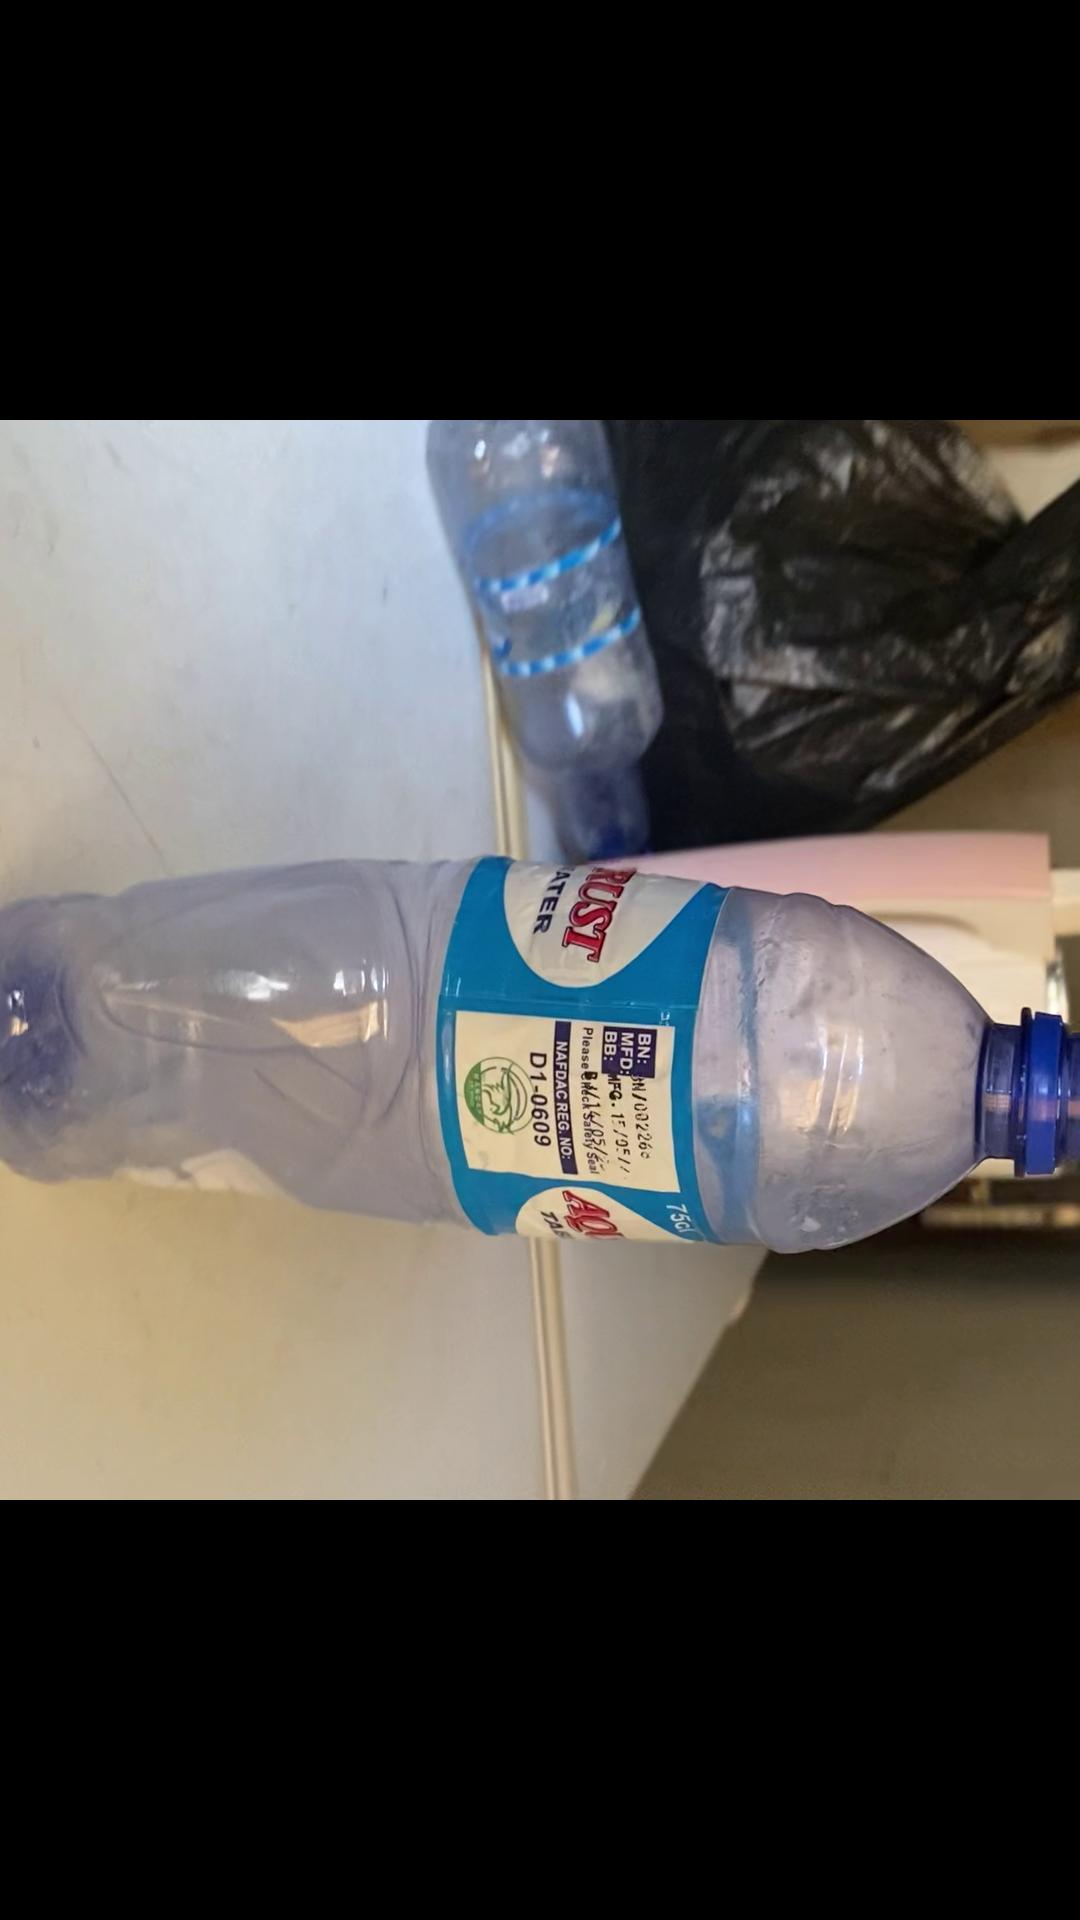crumbled: (0, 847, 1080, 1265)
label: (451, 857, 703, 1237)
no-cap: (1015, 1007, 1080, 1185)
